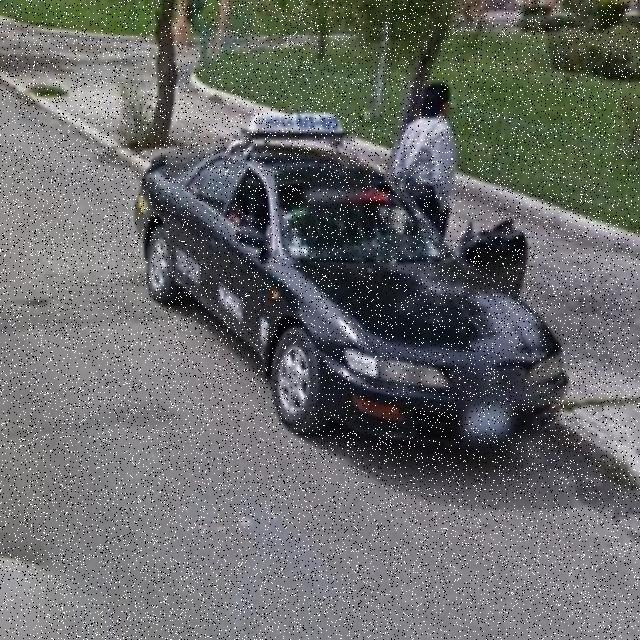cars: (147, 74, 575, 451)
